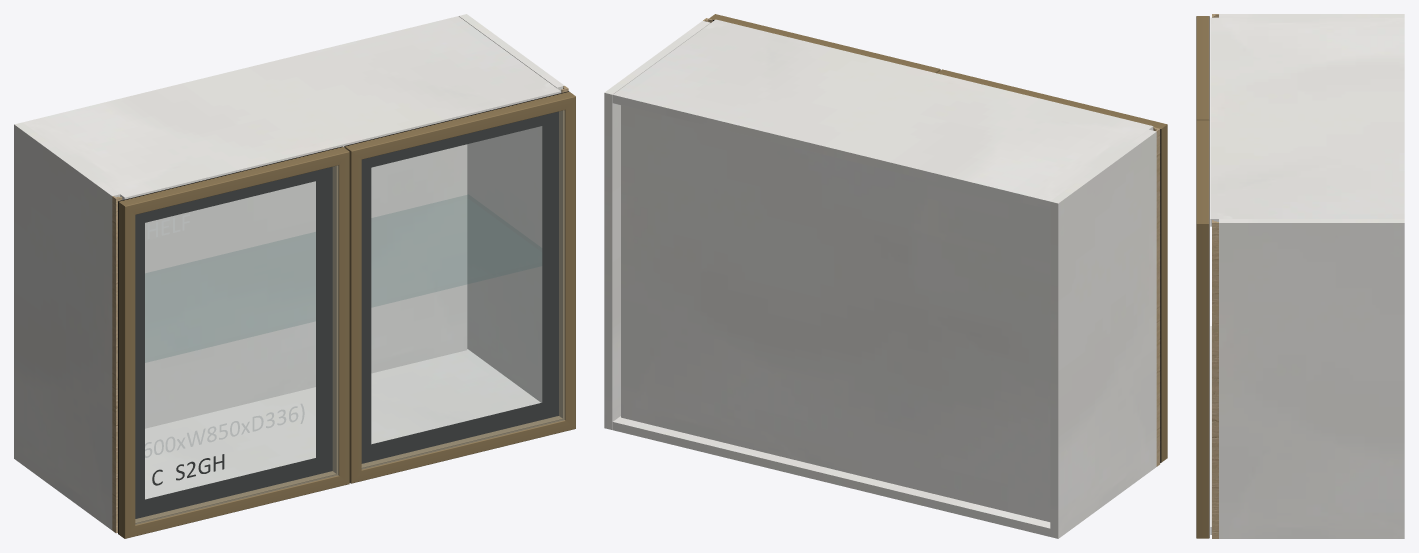
The model's file is LO-SH-NHX-GL-1SG-2HS-XXX-850-600-336-15.glb.
3 views of the same model, side by side, from view 1: azimuth 30°, elevation 25°; view 2: azimuth 150°, elevation 25°; view 3: azimuth 270°, elevation 25° (orthographic). The views are drawn at different scales.
Parts seen in each view (by area): view 1: Object_node_4, Object_node_8, TP_node_2, TP, Neon 22 Profile ALU PROF NEON 20 L21XH22.5MM 3MTR S2/405 SEC (×8), TP_node_0, TP_node, TP_node_1, Object_node_6, Object_node_10, Object_node_12, 2D text_node; view 2: TP_node_2, TP, TP_node_0, TP_node, TP_node_1, Neon 22 Profile ALU PROF NEON 20 L21XH22.5MM 3MTR S2/405 SEC (×3), Object_node_12, Object_node_6; view 3: TP_node_1, TP, Neon 22 Profile ALU PROF NEON 20 L21XH22.5MM 3MTR S2/405 SEC (×3), Object_node_18, TP_node_0, Object_node_10, TP_node.
Part boxes in pixels (bbox=[...]): Object_node_4: bbox=[135, 166, 338, 524]; Object_node_8: bbox=[362, 110, 564, 469]; TP_node_2: bbox=[145, 144, 467, 428]; TP: bbox=[22, 16, 560, 199]; Neon 22 Profile ALU PROF NEON 20 L21XH22.5MM 3MTR S2/405 SEC (×8): bbox=[118, 91, 575, 538]; TP_node_0: bbox=[14, 122, 120, 530]; TP_node: bbox=[145, 349, 540, 499]; TP_node_1: bbox=[459, 14, 564, 402]; Object_node_6: bbox=[118, 146, 342, 534]; Object_node_10: bbox=[344, 91, 568, 463]; Object_node_12: bbox=[112, 196, 122, 533]; 2D text_node: bbox=[145, 403, 304, 457]; TP_node_2: bbox=[621, 105, 1050, 521]; TP: bbox=[612, 19, 1153, 209]; TP_node_0: bbox=[1050, 129, 1156, 538]; TP_node: bbox=[612, 416, 1050, 536]; TP_node_1: bbox=[604, 21, 710, 429]; Neon 22 Profile ALU PROF NEON 20 L21XH22.5MM 3MTR S2/405 SEC (×3): bbox=[709, 14, 1167, 462]; Object_node_12: bbox=[1153, 127, 1160, 466]; Object_node_6: bbox=[1160, 129, 1161, 462]; TP_node_1: bbox=[1219, 219, 1404, 538]; TP: bbox=[1210, 17, 1404, 226]; Neon 22 Profile ALU PROF NEON 20 L21XH22.5MM 3MTR S2/405 SEC (×3): bbox=[1196, 16, 1209, 538]; Object_node_18: bbox=[1212, 220, 1218, 538]; TP_node_0: bbox=[1219, 14, 1404, 17]; Object_node_10: bbox=[1209, 120, 1209, 538]; TP_node: bbox=[1210, 326, 1211, 534].
Size of what is drawn, in the model's own units: 0.85 by 0.6 by 0.358.
8 materials, 2 textured.
